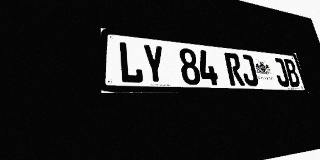4: (196, 49, 219, 85)
8: (178, 47, 202, 85)
B: (283, 59, 301, 87)
J: (239, 54, 259, 86), (271, 57, 291, 87)
L: (118, 41, 144, 84)
R: (224, 52, 245, 86)
Y: (142, 44, 167, 84)
